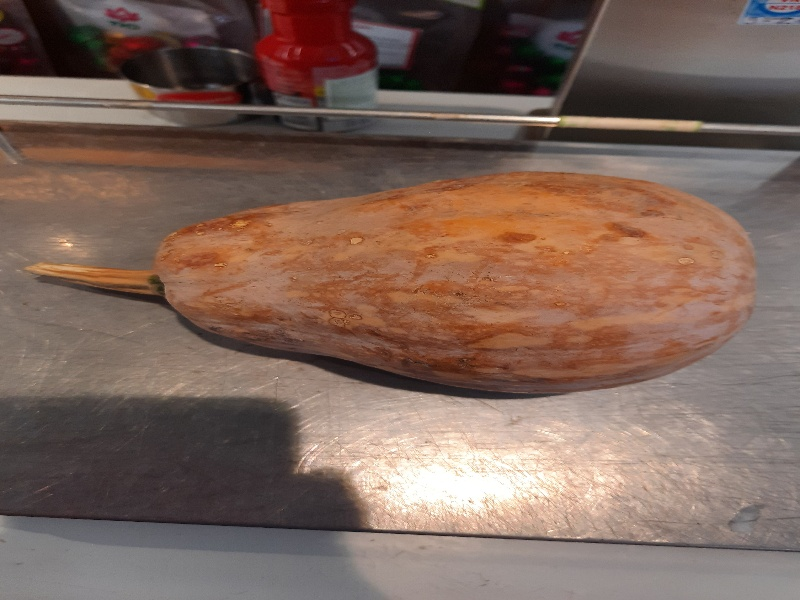vege: (22, 168, 761, 403)
